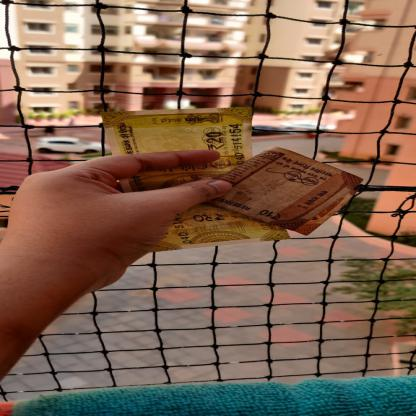New10Back: (203, 145, 365, 236)
New20Front: (99, 107, 290, 252)
